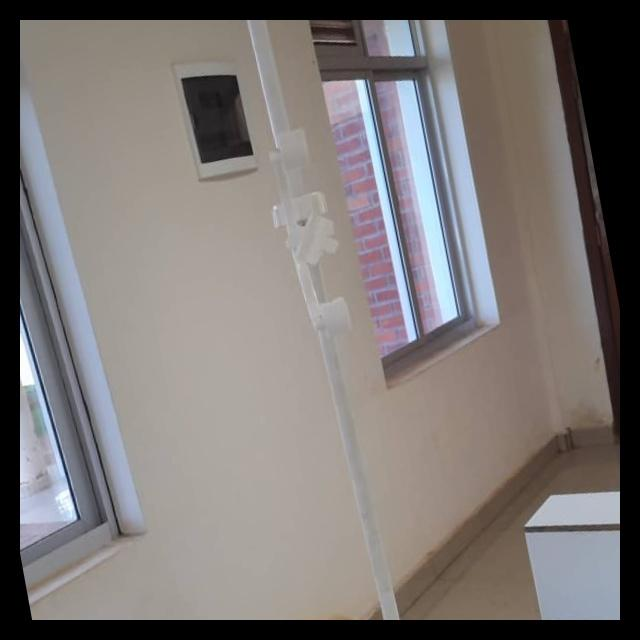Stand: (126, 20, 551, 620)
